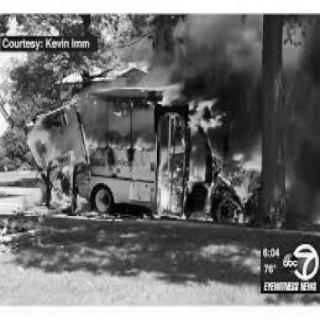Smoke: (143, 9, 317, 150)
